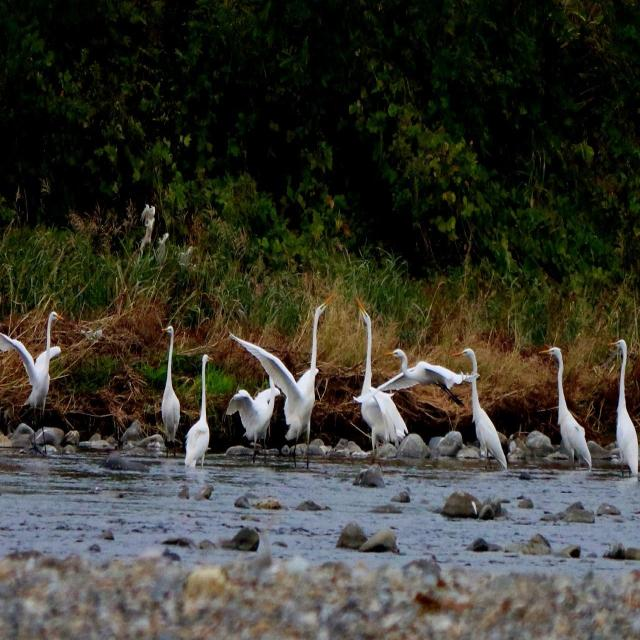bird: (226, 308, 332, 467), (379, 350, 473, 459), (338, 308, 404, 454), (457, 349, 522, 472), (0, 304, 62, 428), (533, 346, 590, 476), (352, 346, 472, 396), (600, 344, 640, 484), (154, 320, 191, 458), (221, 387, 278, 465), (185, 346, 216, 476)
